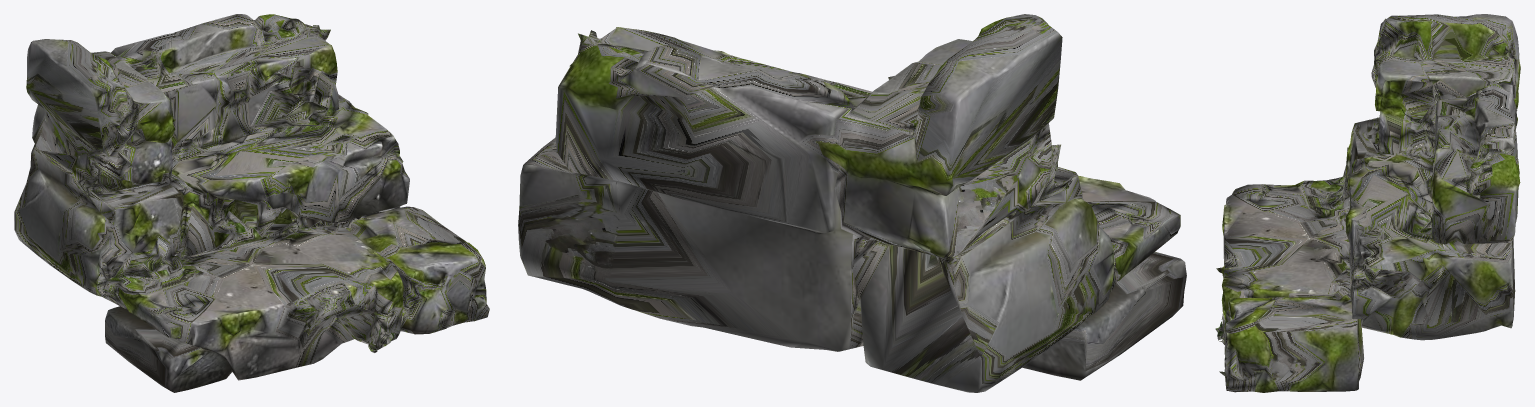
The model's file is stack.glb.
3 views of the same model, side by side, from view 1: azimuth 30°, elevation 25°; view 2: azimuth 150°, elevation 25°; view 3: azimuth 270°, elevation 25° (orthographic). The views are drawn at different scales.
Bounding box in the file's own units: 1.89 × 1.4 × 1.58.
1 material, 1 textured.
